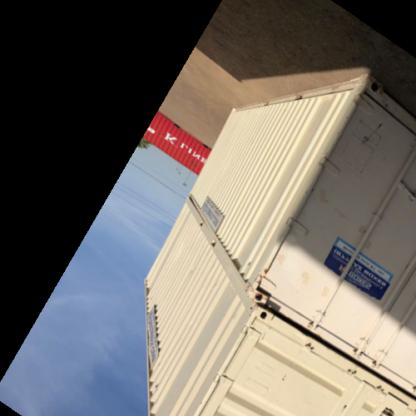Damage: (341, 186, 386, 260), (357, 103, 391, 169)
